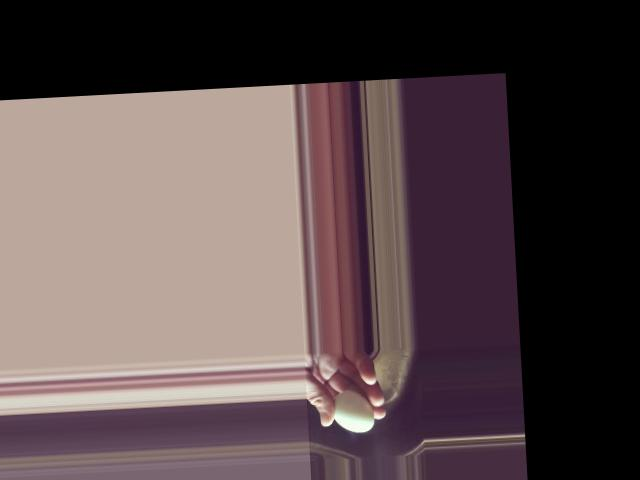egg: (331, 389, 373, 433)
